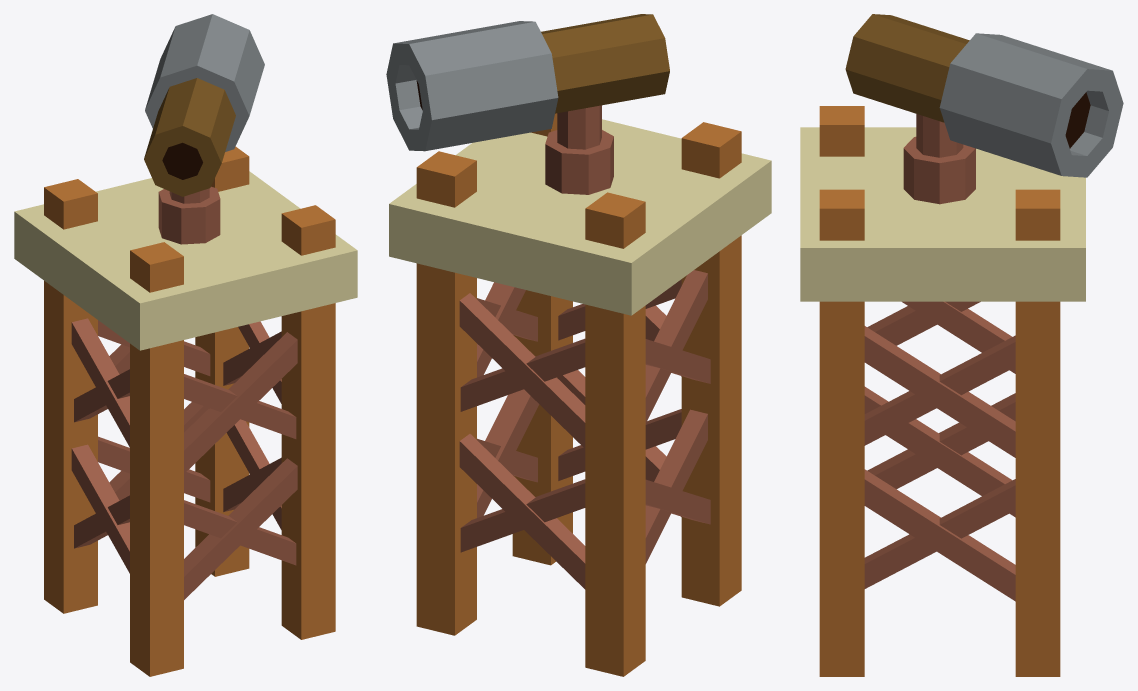
The model's file is tower.fbx.
3 views of the same model, side by side, from view 1: azimuth 30°, elevation 25°; view 2: azimuth 150°, elevation 25°; view 3: azimuth 270°, elevation 25° (orthographic). The views are drawn at different scales.
Visible parts, largest first — view 1: tower; view 2: tower; view 3: tower.
Part boxes in pixels (box(x1,y1,x2,y2)): tower: box(14, 14, 357, 676); tower: box(386, 14, 771, 676); tower: box(800, 14, 1123, 676).
Size of the model in its own units: 89.72 by 194 by 93.93.
